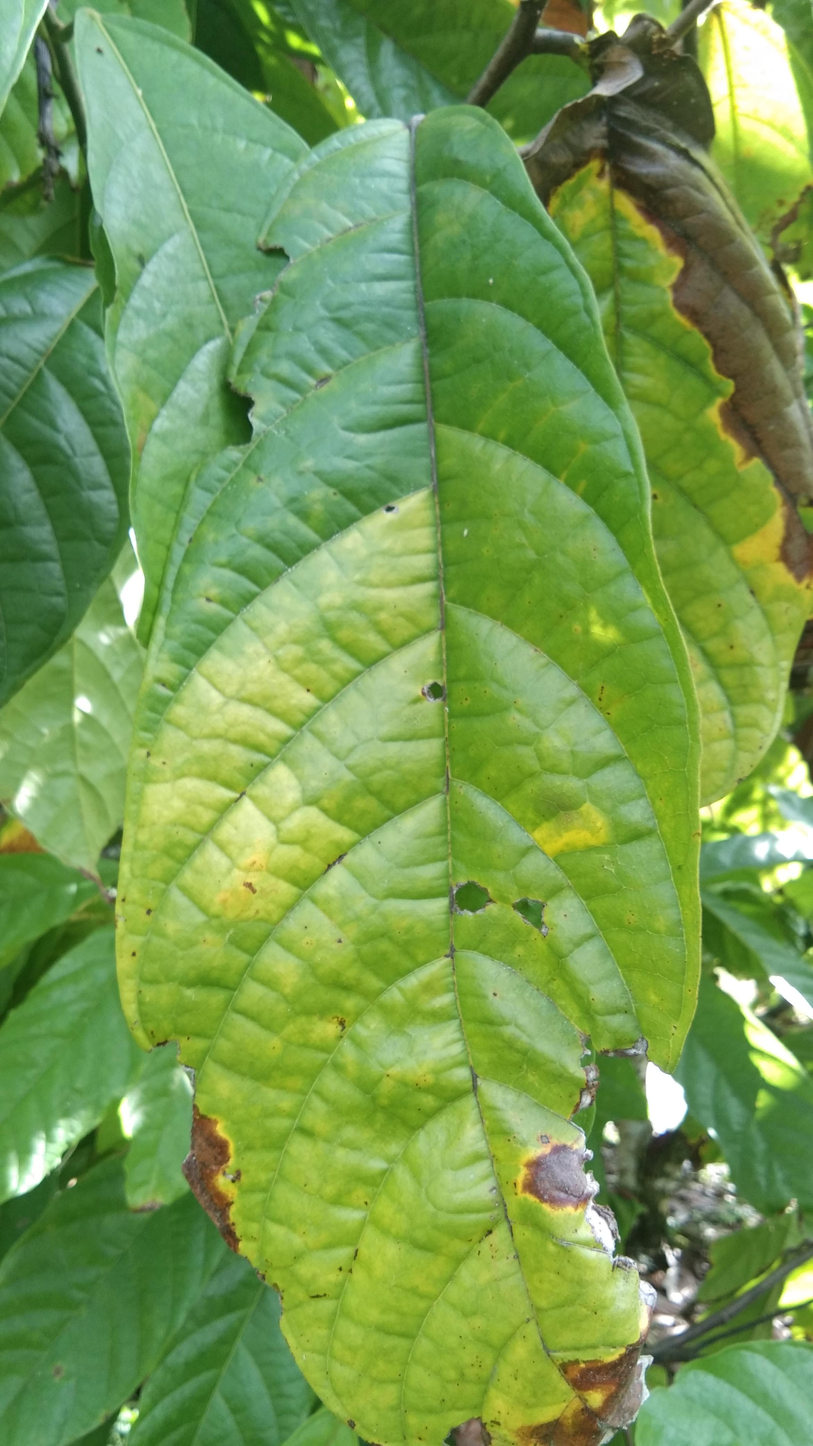deficiencia_potasio: (118, 132, 698, 1446)
